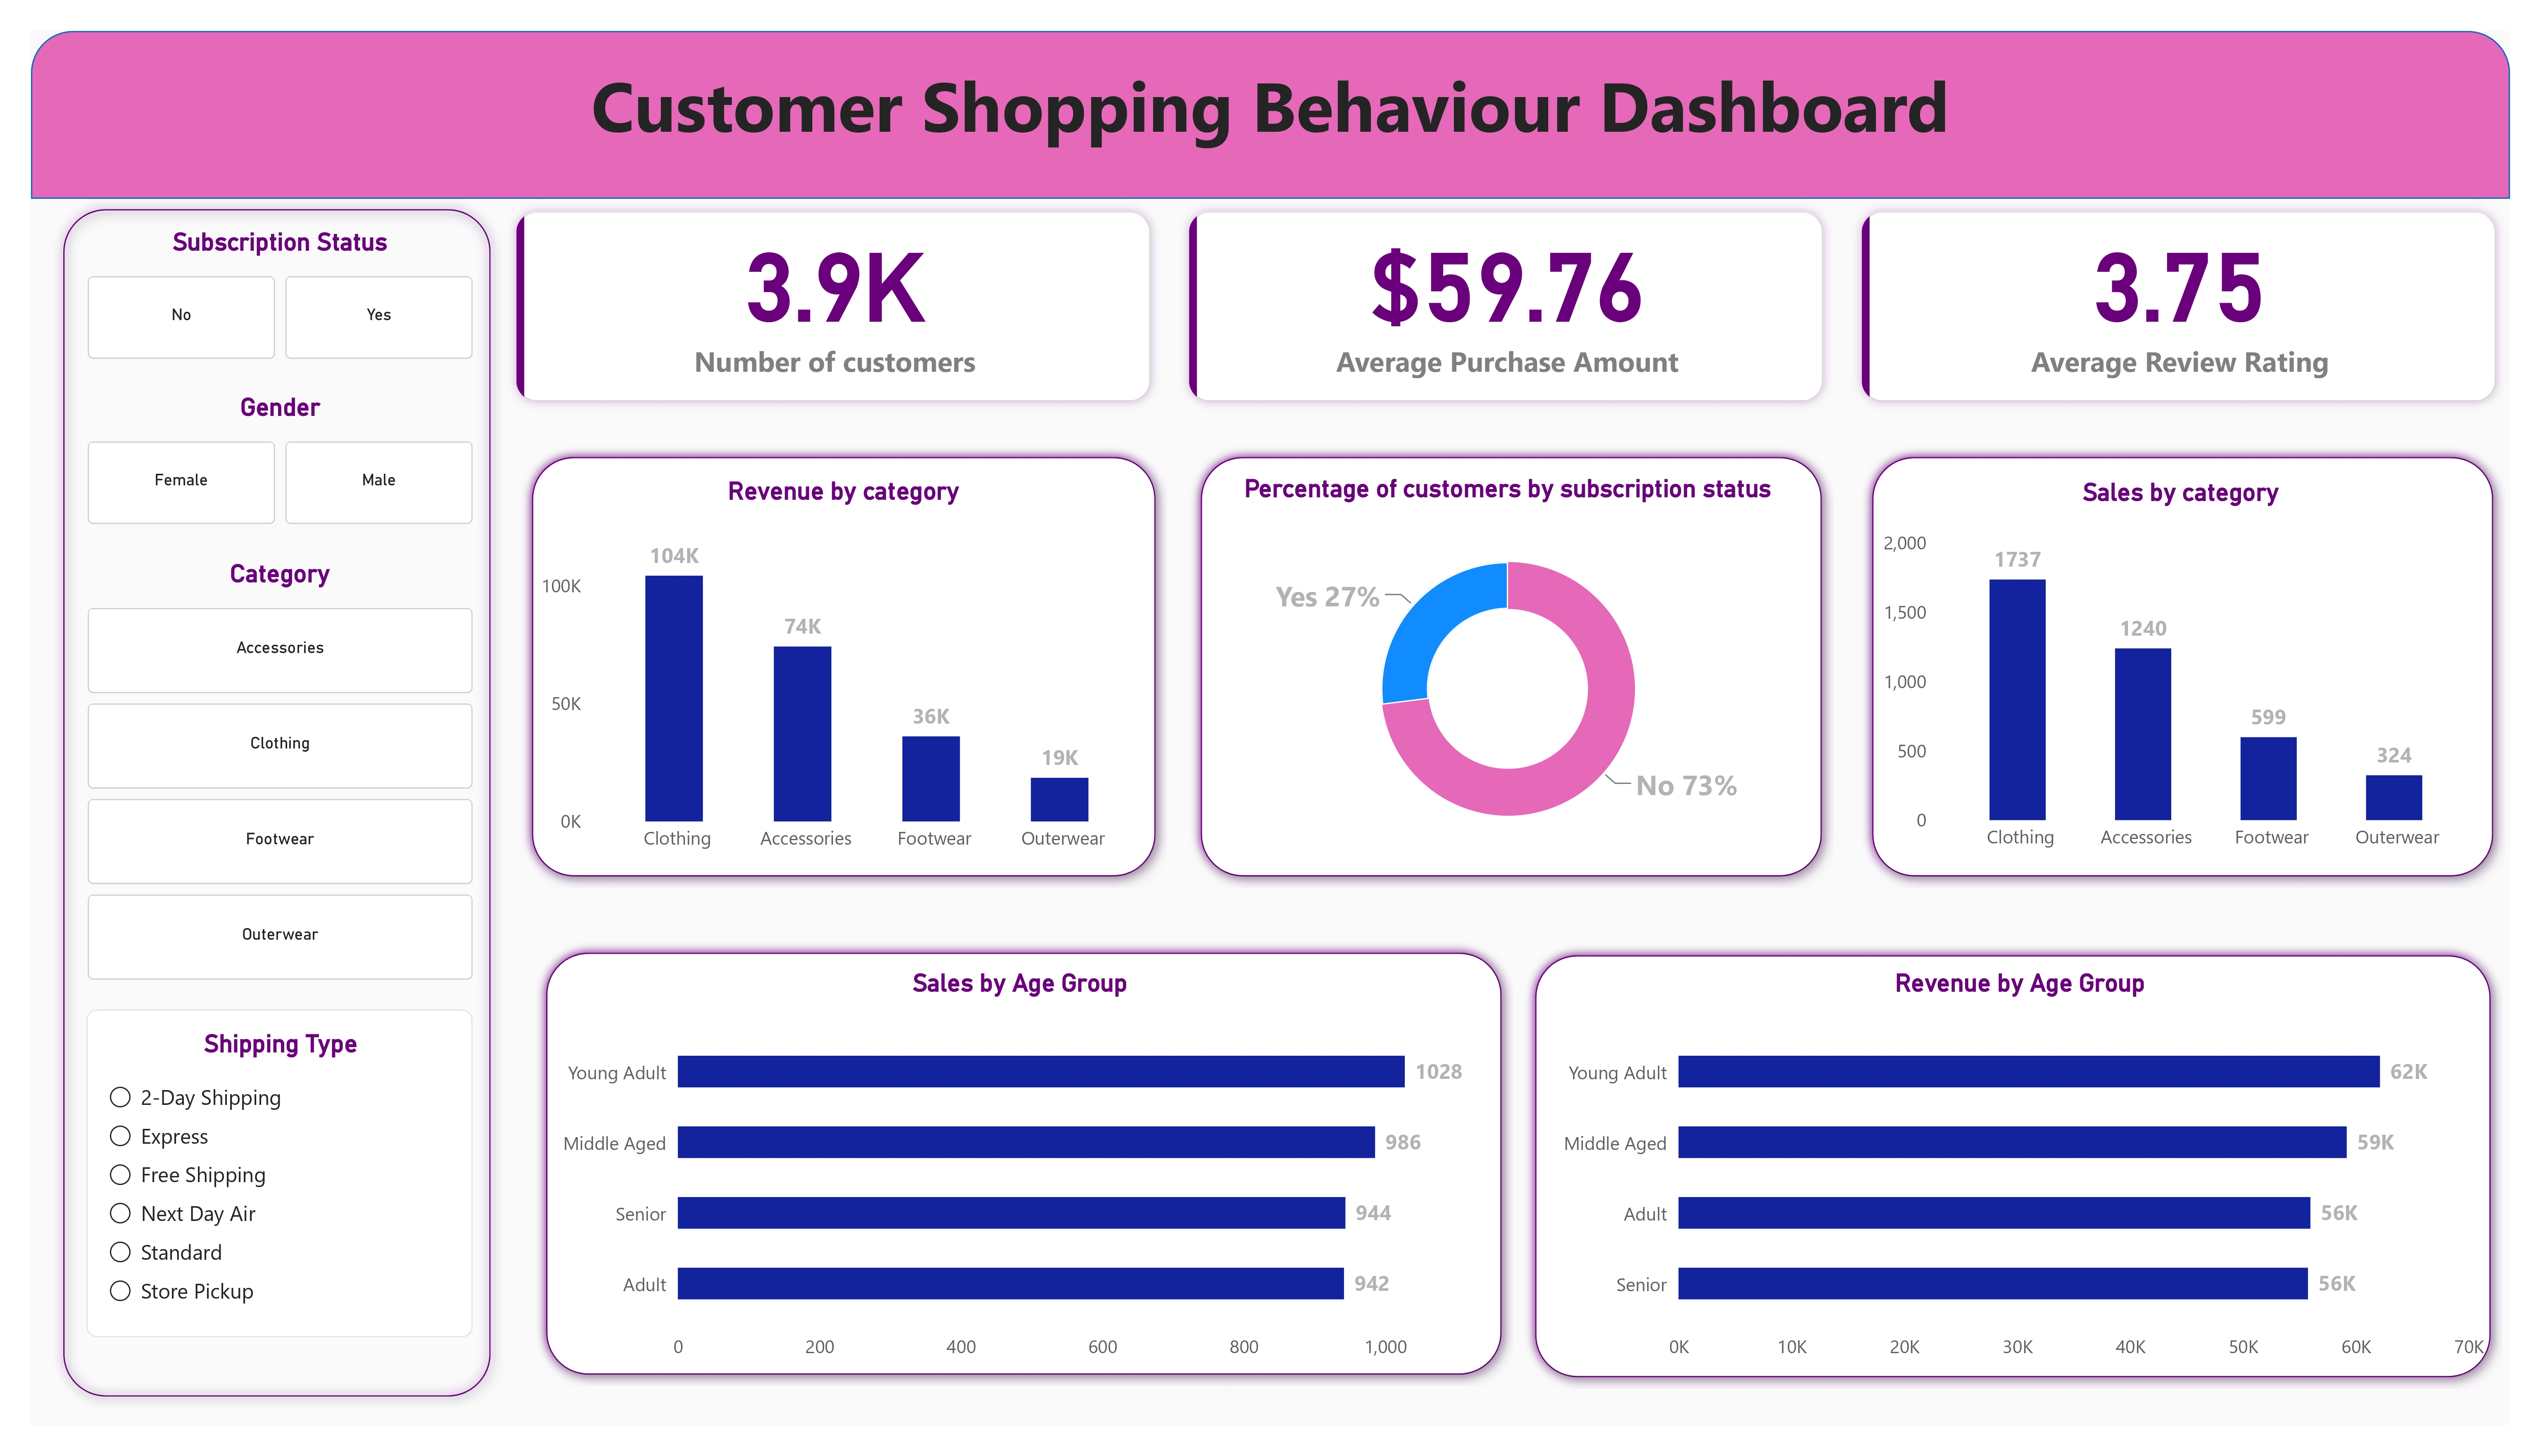

The dashboard page shown, as its layout file describes it:
{"tool":"powerbi","page":{"name":"Page 1","canvas":[1920,1080],"ordinal":0},"visuals":[{"type":"cardVisual","fields":{"Data":["public customer.Number of customers","public customer.Average Purchase Amount","public customer.Average Review Rating"]},"box":[365.1,129.1,1555.3,169.4],"z":0},{"type":"shape","box":[0,0,1920.4,129.7],"z":1000},{"type":"textbox","box":[0,20.2,1920.4,86.9],"z":2000},{"type":"shape","box":[16.1,129.1,349,938],"z":3000},{"type":"shape","box":[1417,321.4,498.8,342.3],"z":4000},{"type":"shape","box":[379.2,320.7,500.3,342.9],"z":5000},{"type":"shape","box":[897.4,321.4,498.8,342.3],"z":6000},{"type":"donutChart","title":"Percentage of customers by subscription status","fields":{"Category":["public customer.subscription_status"],"Y":["CountNonNull(public customer.customer_id)"]},"box":[893.6,328.8,500.3,324.8],"z":7000},{"type":"clusteredColumnChart","title":"Revenue by category","fields":{"Category":["public customer.category"],"Y":["Sum(public customer.purchase_amount_usd)"]},"box":[379.2,330.8,500.3,324.8],"z":8000},{"type":"clusteredColumnChart","title":"Sales by category","fields":{"Category":["public customer.category"],"Y":["CountNonNull(public customer.customer_id)"]},"box":[1417.7,331.8,494.6,323.5],"z":9000},{"type":"advancedSlicerVisual","title":"Subscription Status","fields":{"Values":["public customer.subscription_status"]},"box":[43.8,152.3,298.4,104.3],"z":10000},{"type":"advancedSlicerVisual","title":"Gender","fields":{"Values":["public customer.gender"]},"box":[43.8,279.7,298.4,104.3],"z":11000},{"type":"advancedSlicerVisual","title":"Category","fields":{"Values":["public customer.category"]},"box":[43.8,409,298.4,329.7],"z":12000},{"type":"listSlicer","title":"Shipping Type","fields":{"Values":["public customer.shipping_type"]},"box":[43.4,758.2,298.6,253.4],"z":13000},{"type":"shape","box":[390.3,705.4,757.6,344.3],"z":14000},{"type":"shape","box":[1156.2,707.5,757.6,344.3],"z":15000},{"type":"clusteredBarChart","title":"Sales by Age Group","fields":{"Category":["public customer.age_group"],"Y":["CountNonNull(public customer.customer_id)"]},"box":[390.3,711.7,751.3,338.1],"z":16000},{"type":"clusteredBarChart","title":"Revenue by Age Group","fields":{"Category":["public customer.age_group"],"Y":["Sum(public customer.purchase_amount_usd)"]},"box":[1164.5,711.7,751.3,338.1],"z":17000}]}

Visuals, with their boxes on the page's 1920x1080 design canvas (x1, y1, x2, y2). These are canvas units, not pixel positions in the 2541x1456 screenshot, which may show the page scaled, cropped or inside an application window:
cardVisual - public customer.Number of customers x public customer.Average Purchase Amount: pyautogui.locateOnScreen(365, 129, 1920, 298)
shape: pyautogui.locateOnScreen(0, 0, 1920, 130)
textbox: pyautogui.locateOnScreen(0, 20, 1920, 107)
shape: pyautogui.locateOnScreen(16, 129, 365, 1067)
shape: pyautogui.locateOnScreen(1417, 321, 1916, 664)
shape: pyautogui.locateOnScreen(379, 321, 880, 664)
shape: pyautogui.locateOnScreen(897, 321, 1396, 664)
"Percentage of customers by subscription status" donutChart: pyautogui.locateOnScreen(894, 329, 1394, 654)
"Revenue by category" clusteredColumnChart: pyautogui.locateOnScreen(379, 331, 880, 656)
"Sales by category" clusteredColumnChart: pyautogui.locateOnScreen(1418, 332, 1912, 655)
"Subscription Status" advancedSlicerVisual: pyautogui.locateOnScreen(44, 152, 342, 257)
"Gender" advancedSlicerVisual: pyautogui.locateOnScreen(44, 280, 342, 384)
"Category" advancedSlicerVisual: pyautogui.locateOnScreen(44, 409, 342, 739)
"Shipping Type" listSlicer: pyautogui.locateOnScreen(43, 758, 342, 1012)
shape: pyautogui.locateOnScreen(390, 705, 1148, 1050)
shape: pyautogui.locateOnScreen(1156, 708, 1914, 1052)
"Sales by Age Group" clusteredBarChart: pyautogui.locateOnScreen(390, 712, 1142, 1050)
"Revenue by Age Group" clusteredBarChart: pyautogui.locateOnScreen(1164, 712, 1916, 1050)
